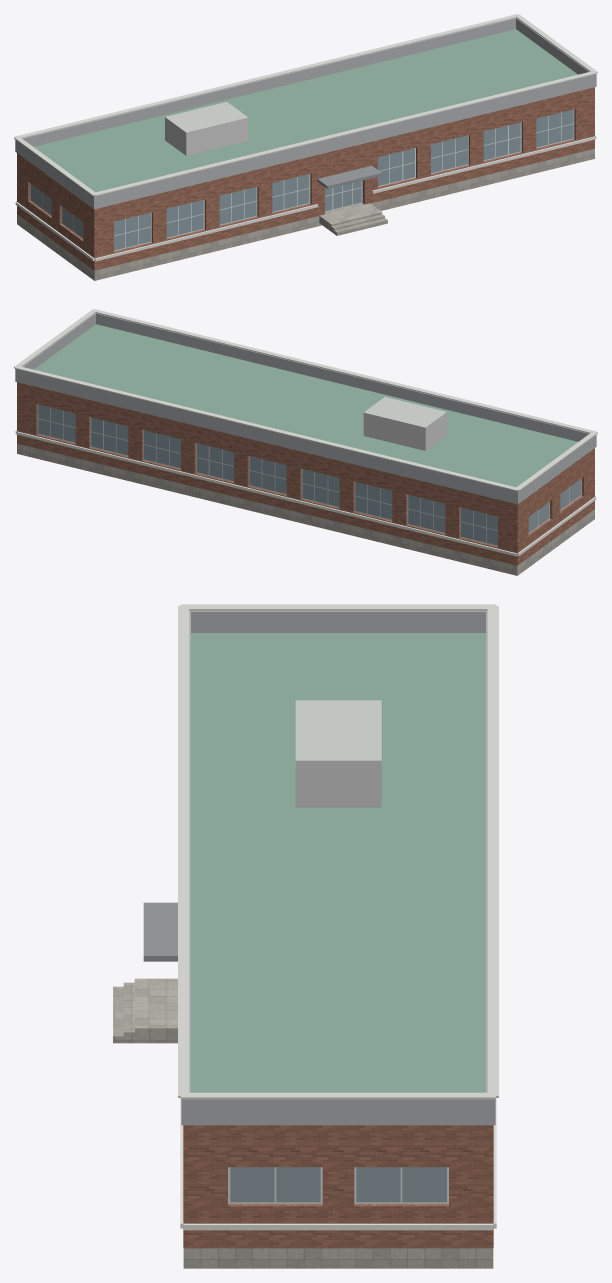
3 views of the same model, one above another, from view 1: azimuth 30°, elevation 25°; view 2: azimuth 150°, elevation 25°; view 3: azimuth 270°, elevation 25° (orthographic). The views are drawn at different scales.
Parts seen in each view (by area): view 1: cafeteria__greenroof, cafeteria__brick, cafeteria__greypanel, cafeteria__glass, cafeteria__stone, cafeteria__cap, cafeteria__roofbox, cafeteria__band, cafeteria__frame, cafeteria__stair-south, cafeteria__canopy, cafeteria__sideglass (+1 smaller); view 2: cafeteria__greenroof, cafeteria__brick, cafeteria__greypanel, cafeteria__glass, cafeteria__stone, cafeteria__cap, cafeteria__roofbox, cafeteria__band, cafeteria__frame, cafeteria__sideglass; view 3: cafeteria__greenroof, cafeteria__brick, cafeteria__greypanel, cafeteria__cap, cafeteria__roofbox, cafeteria__stone, cafeteria__sideglass, cafeteria__band, cafeteria__threshold-south, cafeteria__canopy, cafeteria__stair-south, cafeteria__frame.
Part boxes in pixels (x1,y1,x2,y2): cafeteria__greenroof: (34, 29, 577, 192); cafeteria__brick: (17, 87, 594, 270); cafeteria__greypanel: (15, 18, 596, 209); cafeteria__glass: (114, 109, 573, 250); cafeteria__stone: (17, 148, 594, 280); cafeteria__cap: (14, 14, 597, 196); cafeteria__roofbox: (165, 102, 248, 155); cafeteria__band: (15, 135, 596, 261); cafeteria__frame: (30, 109, 574, 251); cafeteria__stair-south: (328, 210, 387, 235); cafeteria__canopy: (317, 165, 381, 188); cafeteria__sideglass: (31, 184, 83, 237); cafeteria__greenroof: (34, 324, 577, 487); cafeteria__brick: (17, 382, 594, 565); cafeteria__greypanel: (15, 313, 596, 504); cafeteria__glass: (38, 404, 497, 545); cafeteria__stone: (17, 443, 594, 575); cafeteria__cap: (14, 309, 597, 491); cafeteria__roofbox: (363, 397, 446, 450); cafeteria__band: (15, 430, 596, 556); cafeteria__frame: (37, 404, 581, 546); cafeteria__sideglass: (528, 479, 580, 532); cafeteria__greenroof: (191, 633, 485, 1092); cafeteria__brick: (183, 1125, 493, 1248); cafeteria__greypanel: (181, 611, 495, 1125); cafeteria__cap: (178, 604, 498, 1099); cafeteria__roofbox: (295, 700, 381, 807); cafeteria__stone: (183, 1248, 493, 1268); cafeteria__sideglass: (230, 1167, 446, 1202); cafeteria__band: (180, 1098, 496, 1230); cafeteria__threshold-south: (145, 978, 177, 1043); cafeteria__canopy: (143, 902, 177, 961); cafeteria__stair-south: (113, 978, 145, 1043); cafeteria__frame: (228, 1167, 448, 1203).
Size of the model in its own units: 40.7 by 7.59 by 13.47.
11 materials, 2 textured.
